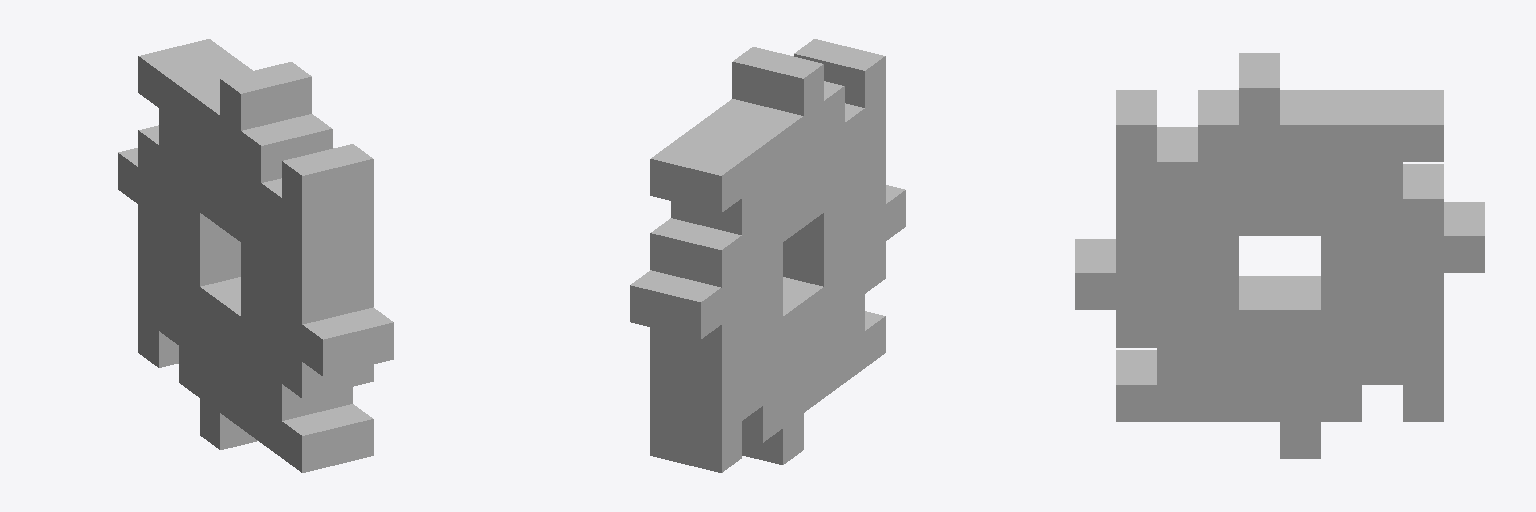
File: Saw.obj
The picture shows the model from 3 angles: view 1: azimuth 30°, elevation 25°; view 2: azimuth 150°, elevation 25°; view 3: azimuth 270°, elevation 25°; orthographic projection.
Parts seen in each view (by area): view 1: object 1; view 2: object 1; view 3: object 1.
Part boxes in pixels (x1,y1,x2,y2): object 1: (118, 39, 393, 472); object 1: (630, 39, 905, 472); object 1: (1075, 53, 1484, 458).
Size of the model in its own units: 0.2 by 1 by 1.